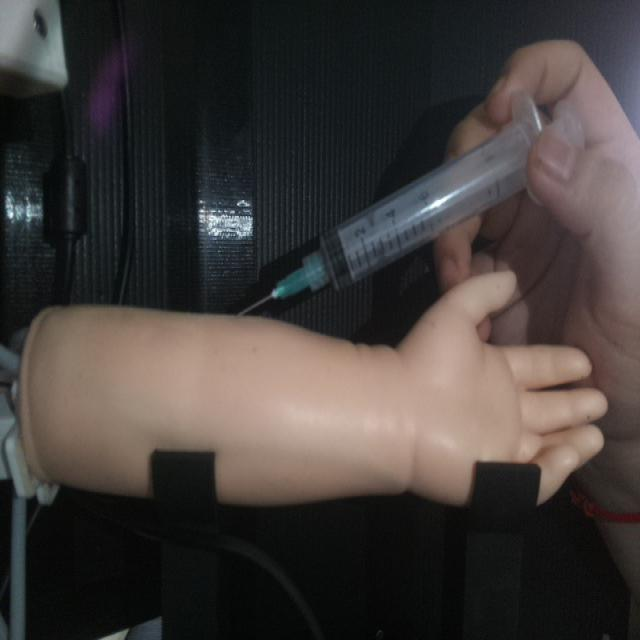Above 30 degrees: (233, 86, 583, 318)
